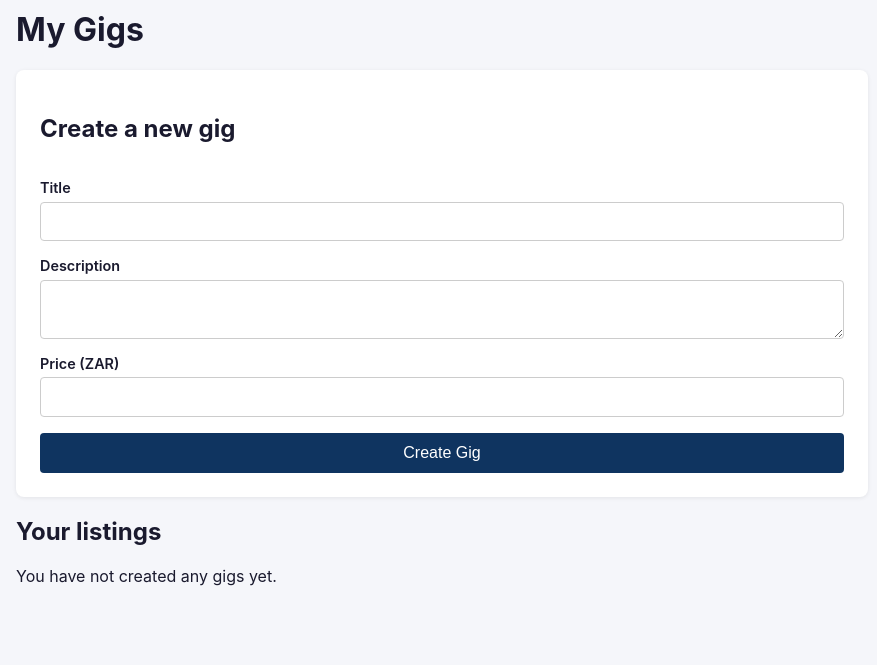
Test case: MyGigs page › falls back to a generic message when gig creation fails with no server response
Expected: the text "You have not created any gigs yet." is shown, [16,566,277,586]
In the field labelled "Title": (442, 221) [40,202,844,241], type "Logo Design"
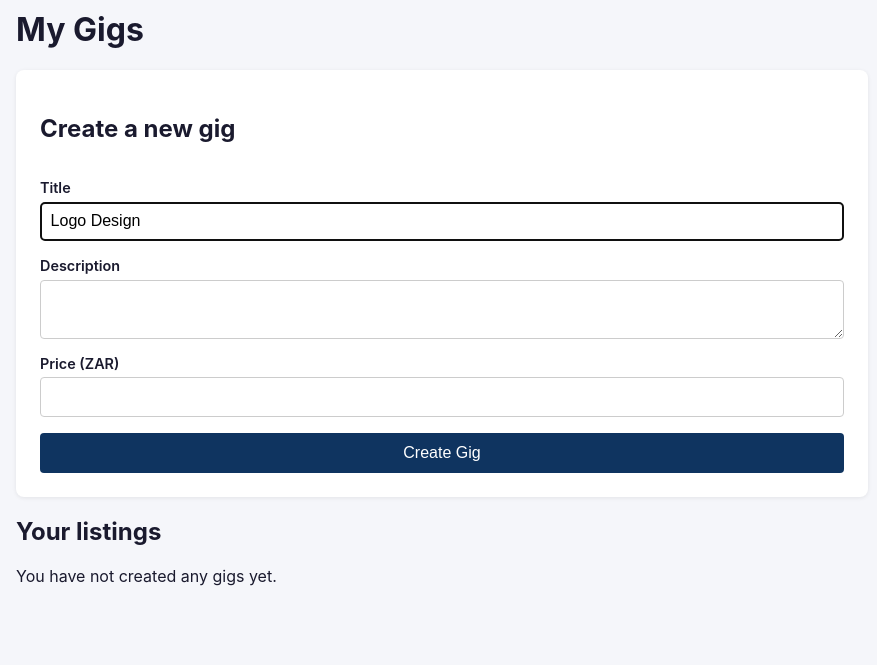
In the text box labelled "Description": (442, 309) [40,280,844,339], type "I will design a logo"
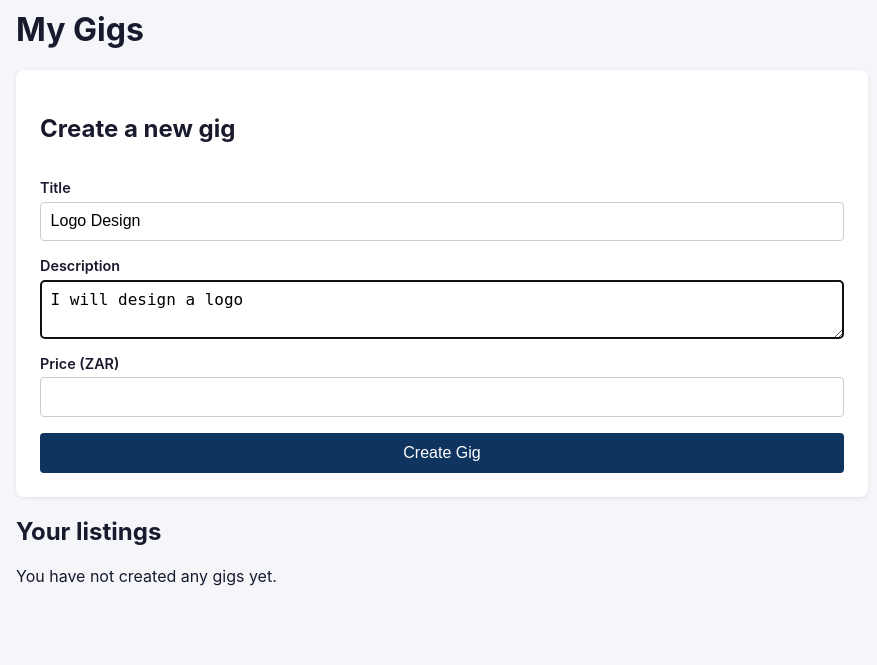
In the number field labelled "Price (ZAR)": (442, 397) [40,377,844,417], type "500"
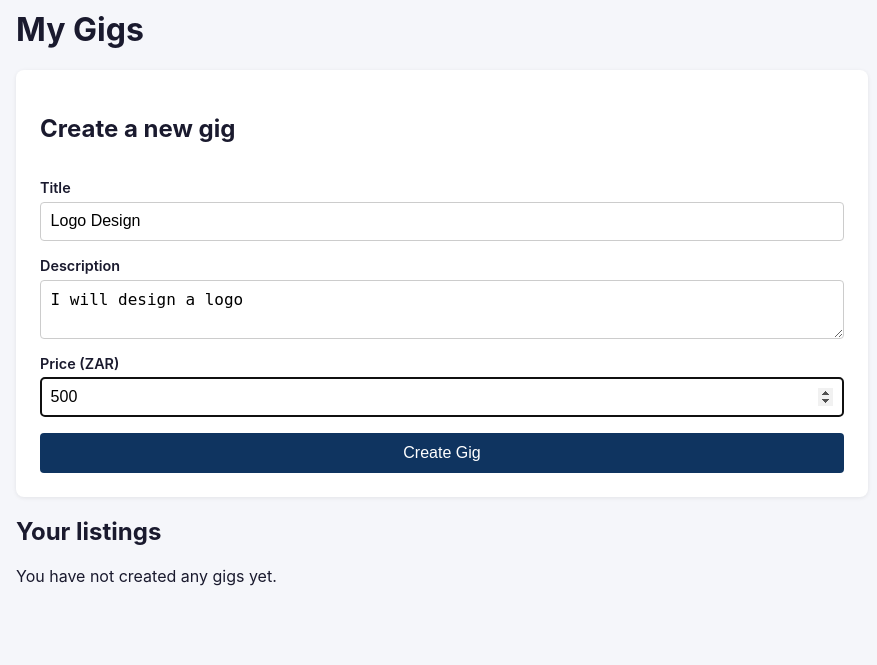
Click the button "Create Gig": (442, 453) [40,433,844,473]
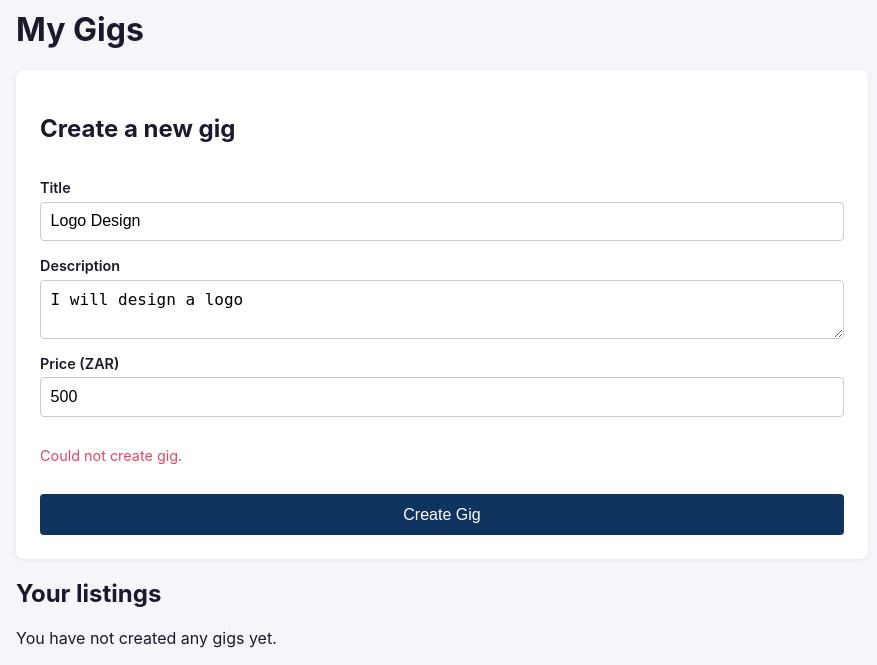
Now the text "Could not create gig." is shown, box [40,447,182,464]
